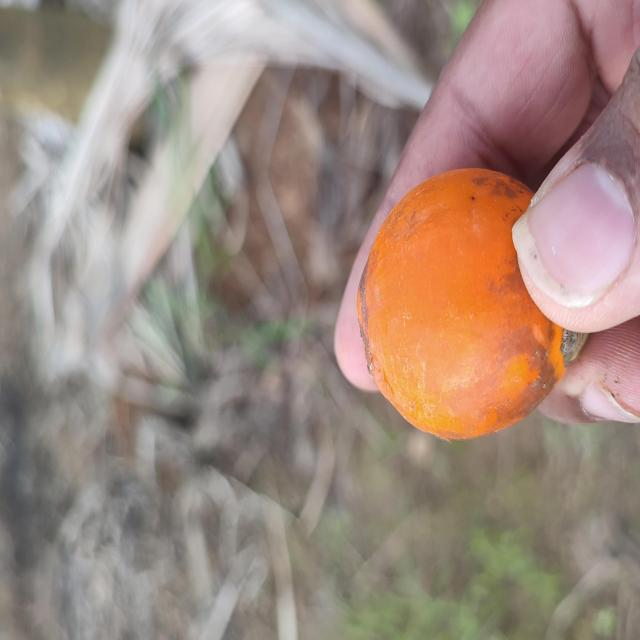good: (355, 169, 589, 442)
